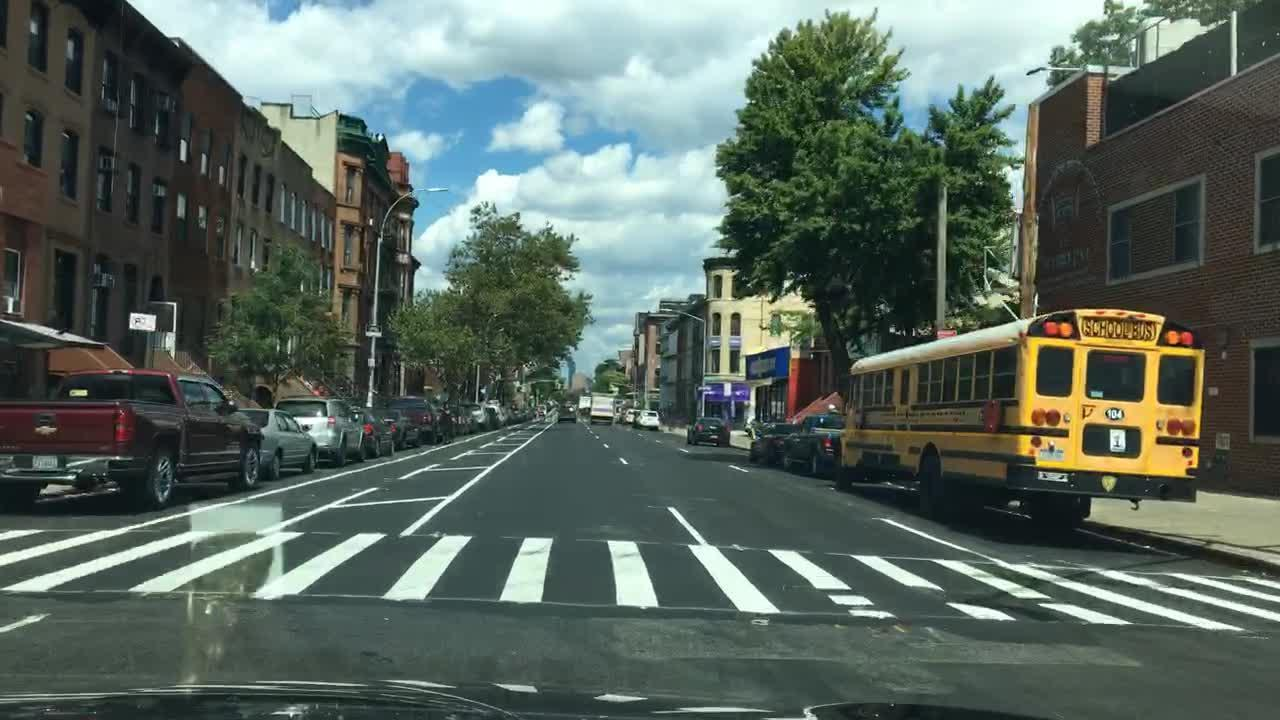chevrolet: (28, 422, 61, 437)
